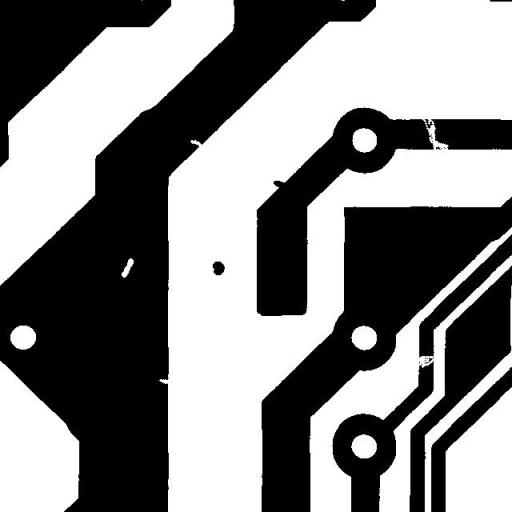copper: (205, 254, 232, 282)
mousebite: (182, 132, 210, 154), (151, 371, 176, 391)
open: (414, 108, 456, 158), (408, 348, 443, 375)
pin-hole: (114, 250, 140, 285)
spur: (266, 173, 296, 198)
